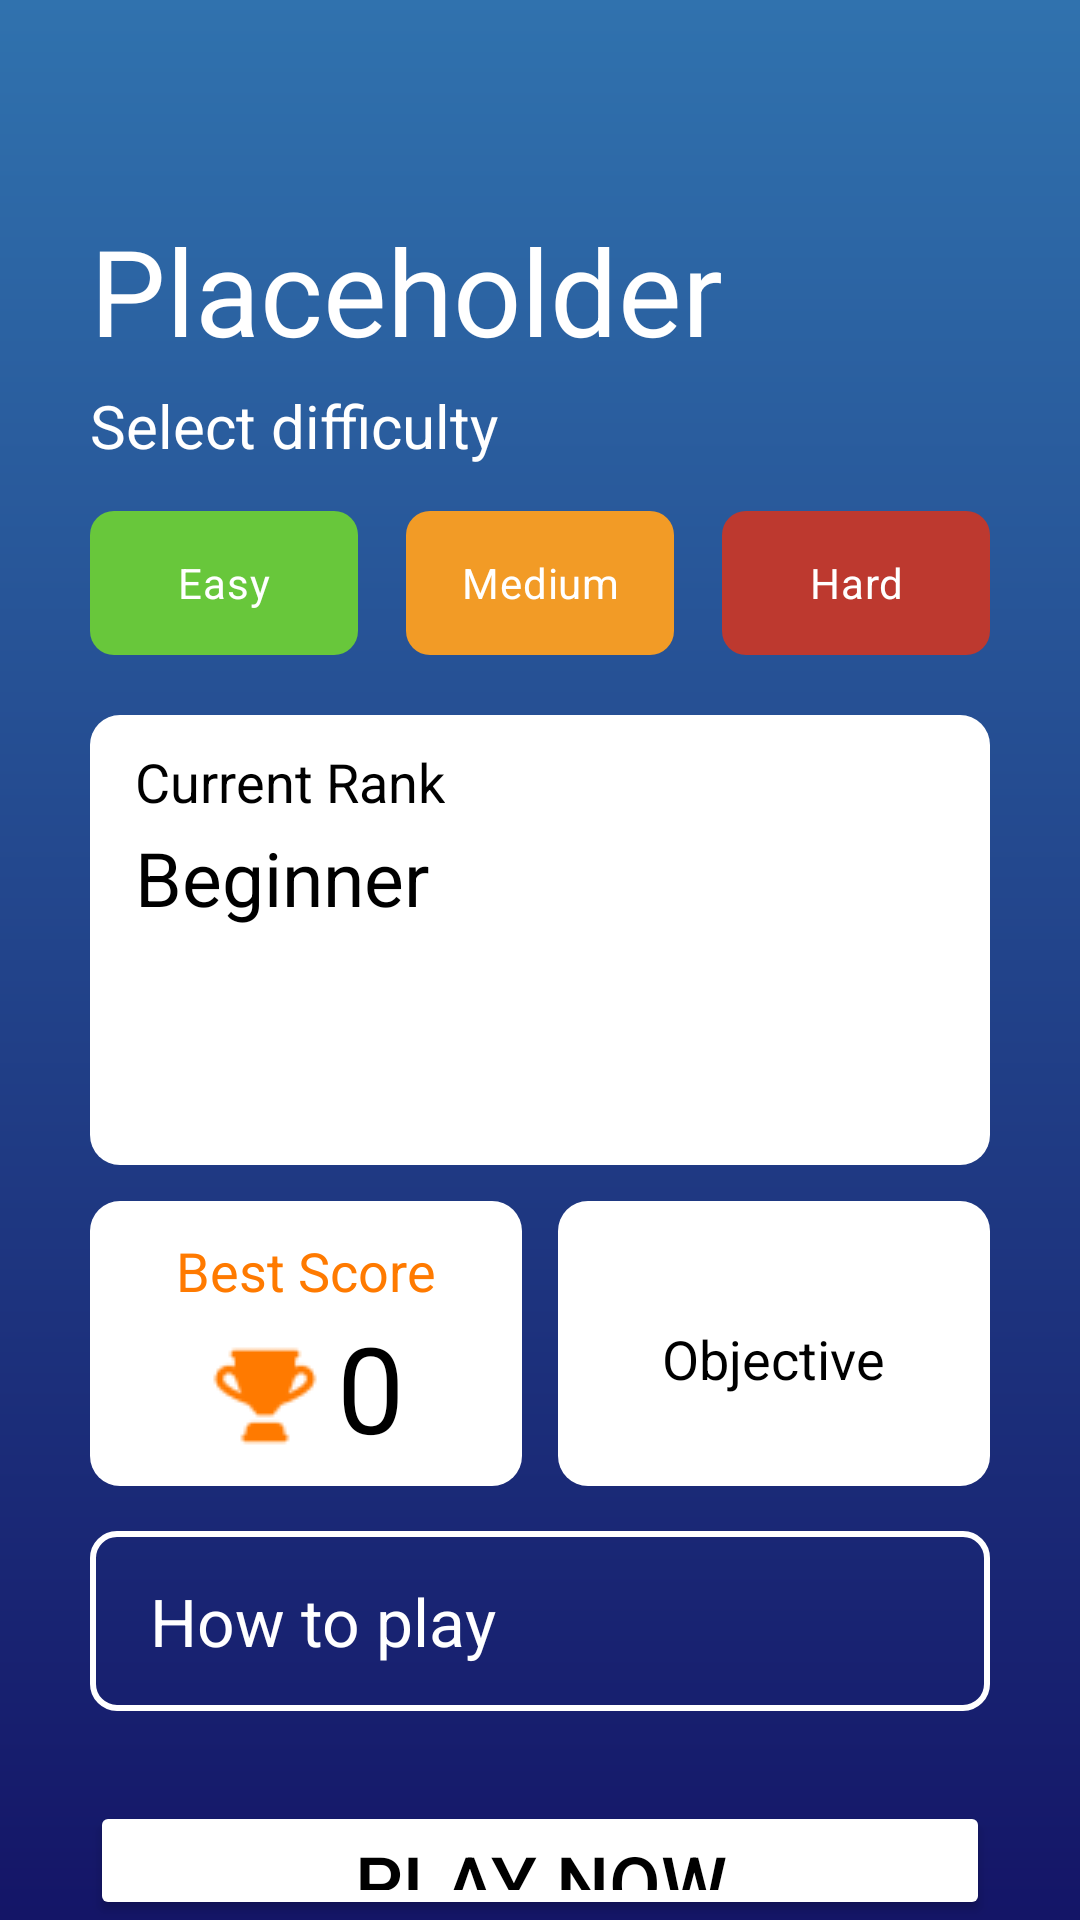

Point at icon controls on the screen. Image size 1080x1920, points as (x=x, y=y).
trophy: (x=265, y=1396)
